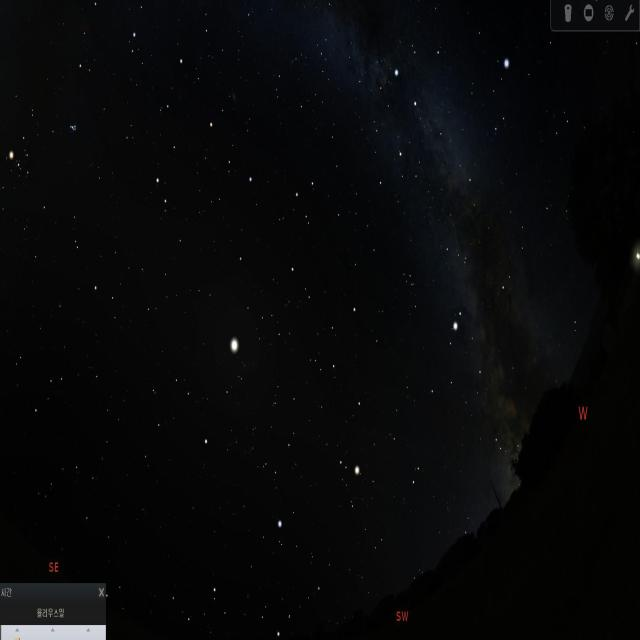aquila: (429, 308, 506, 446)
cygnus: (389, 41, 477, 192)
lyra: (484, 47, 514, 143)
pleiades: (60, 114, 86, 143)
taurus: (4, 103, 89, 214)
